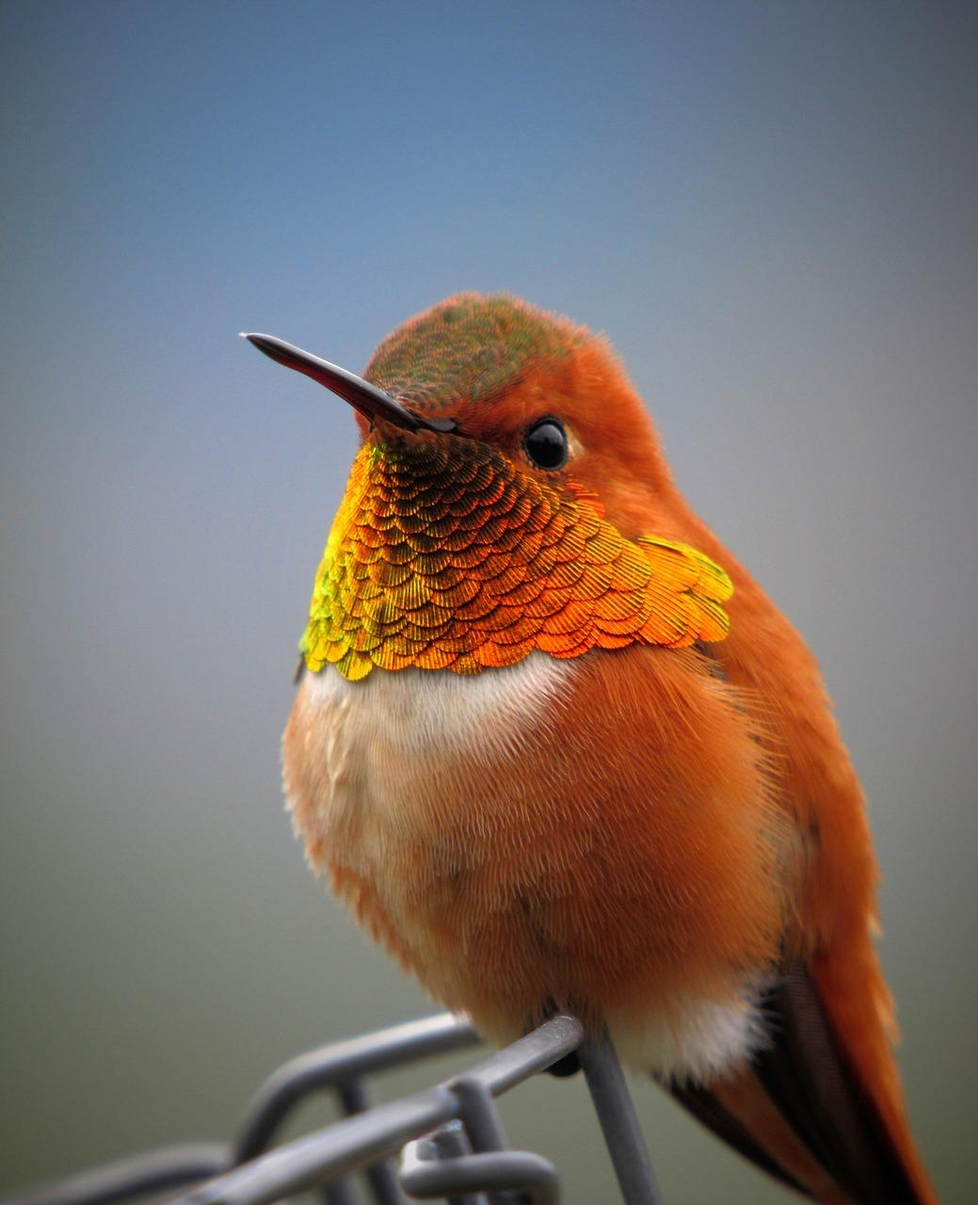bird: (240, 293, 936, 1204)
